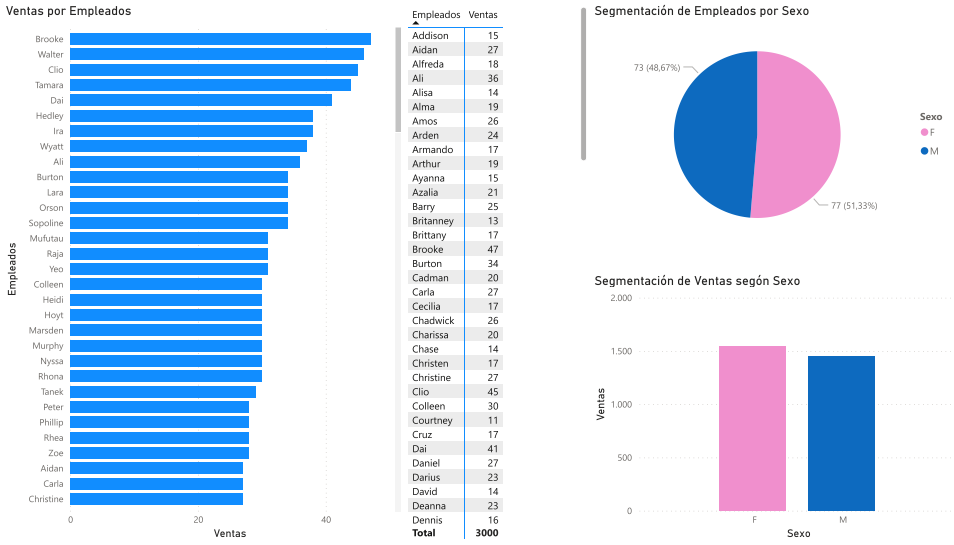

This screenshot's page, from the dashboard's own definition file:
{"tool":"powerbi","page":{"name":"Empleados","canvas":[1280,720],"ordinal":2},"visuals":[{"type":"pieChart","title":"Segmentación de Empleados por Sexo","fields":{"Category":["D_Empleados.Sexo"],"Y":["CountNonNull(D_Empleados.ID_Empleado)"]},"box":[785,0,495,331.7],"z":0},{"type":"barChart","fields":{"Category":["D_Empleados.Nombre"],"Y":["CountNonNull(H_Pedidos.ID_Empleado)"]},"box":[0,0,536.7,720],"z":1000},{"type":"pivotTable","fields":{"Values":["CountNonNull(H_Pedidos.ID_Empleado)"],"Rows":["D_Empleados.Nombre"]},"box":[536.7,0,248.3,720],"z":2000},{"type":"columnChart","title":"Segmentación de Ventas segón Sexo","fields":{"Category":["D_Empleados.Sexo"],"Y":["CountNonNull(H_Pedidos.ID_Empleado)"]},"box":[785,360,495,360],"z":3000}]}

Visuals, with their boxes in screenshot pixels (x1, y1, x2, y2), scaled from the page's 1280x720 canvas onto the 954x545 screenshot:
"Segmentación de Empleados por Sexo" pieChart: <box>585,0,953,251</box>
barChart - D_Empleados.Nombre x CountNonNull(H_Pedidos.ID_Empleado): <box>0,0,400,544</box>
pivotTable - CountNonNull(H_Pedidos.ID_Empleado) x D_Empleados.Nombre: <box>400,0,585,544</box>
"Segmentación de Ventas segón Sexo" columnChart: <box>585,272,953,544</box>
